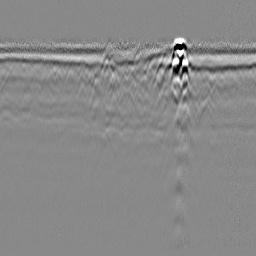cavity: (117, 85, 139, 116)
